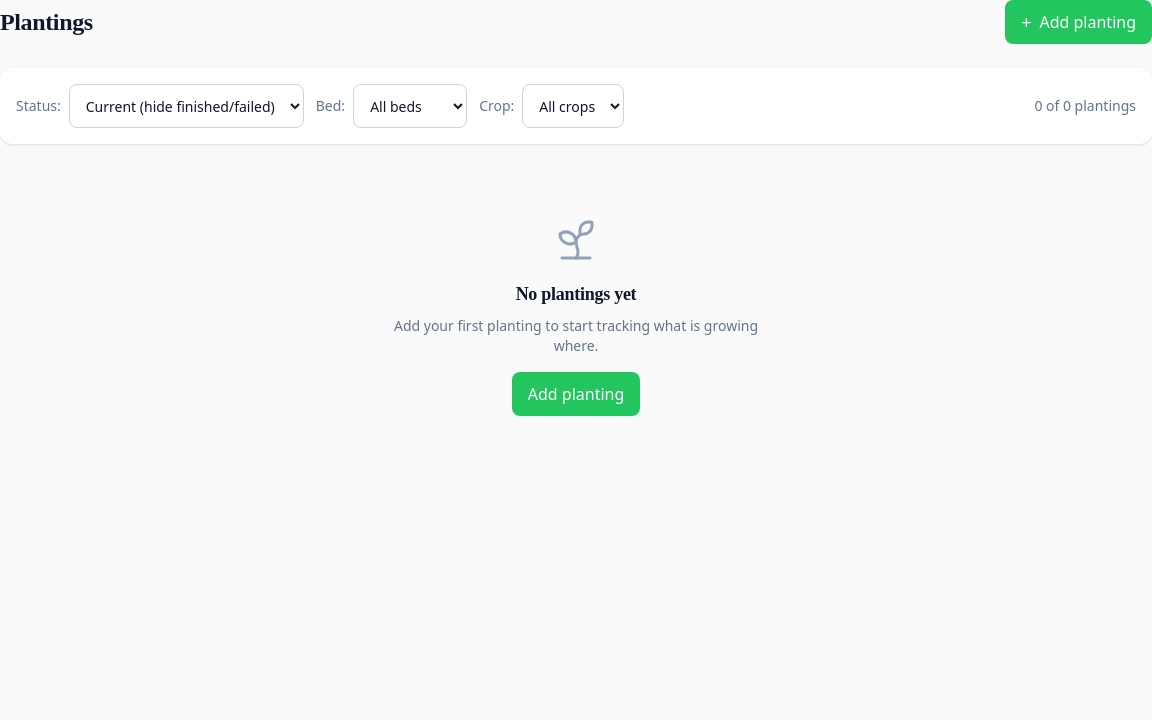
Test case: PlantingList › adding a planting through the form persists it
expect the heading "No plantings yet" is shown: met, box x1=516 y1=280 x2=636 y2=308
Click the button "Add planting" at [576, 394], box x1=512 y1=372 x2=640 y2=416
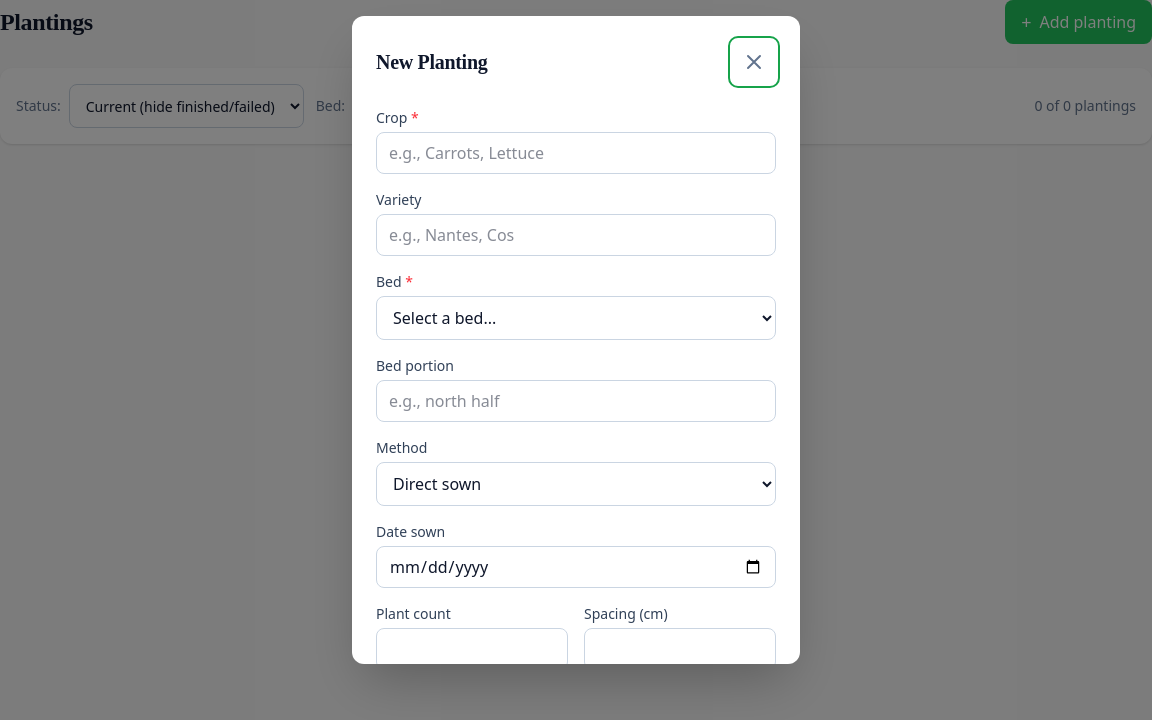
Type "Lettuce" into the field labelled "Crop *" at [576, 153], box x1=376 y1=132 x2=776 y2=174
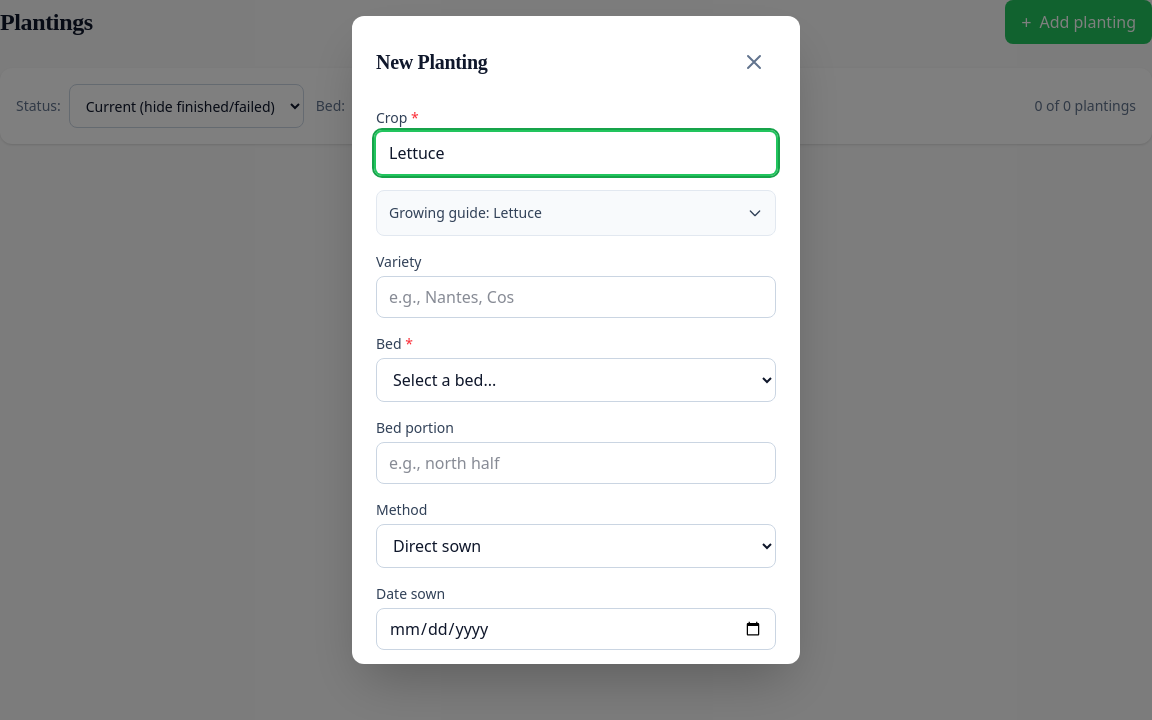
Select "North Bed" in the dropdown labelled "Bed *" at [576, 380], box x1=376 y1=358 x2=776 y2=402
(page scrolled)
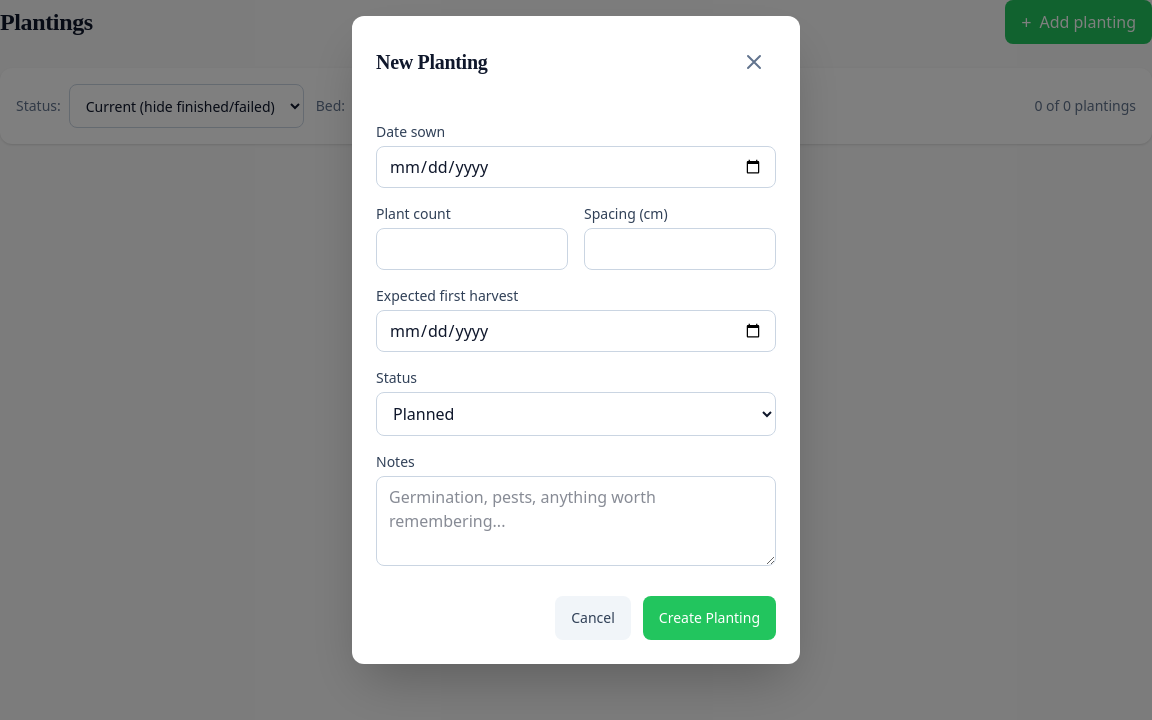
Click the button "Create Planting" at [709, 618], box x1=643 y1=596 x2=776 y2=640
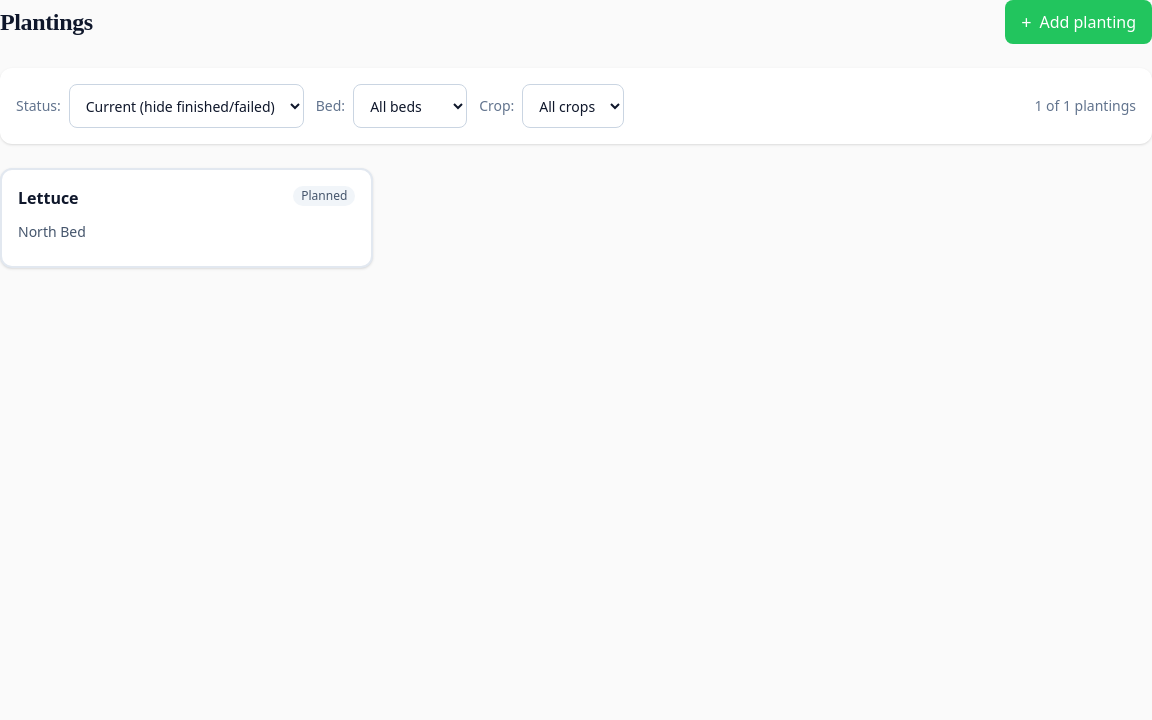
expect the text "Lettuce" is shown: met, box x1=18 y1=186 x2=79 y2=210
